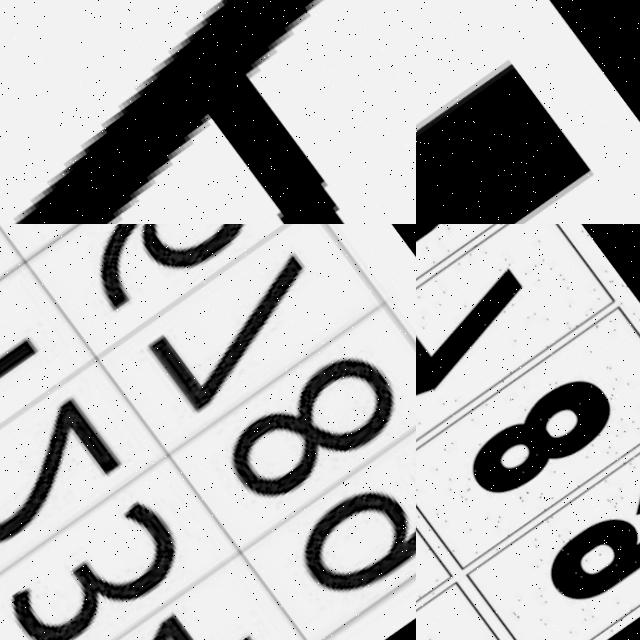1: (0, 295, 44, 465)
2: (0, 376, 131, 577)
3: (0, 478, 195, 640)
4: (65, 569, 270, 640)
6: (63, 224, 268, 326)
7: (136, 224, 339, 419), (416, 237, 547, 405)
8: (211, 321, 414, 518), (453, 345, 626, 511)
9: (278, 413, 416, 614), (529, 449, 640, 616)
I: (416, 13, 602, 224)
P: (10, 0, 348, 224)
